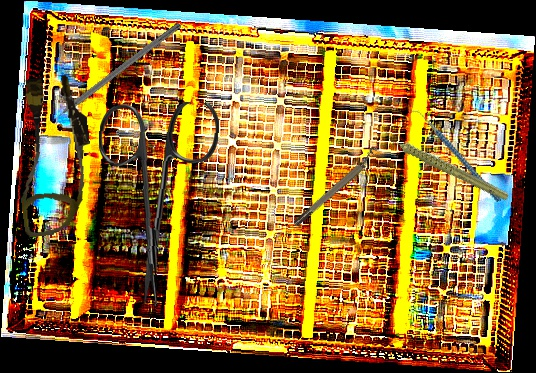Cannula: (6, 73, 101, 238)
Chopper: (407, 90, 502, 221)
Fixation Ring: (288, 144, 385, 229)
Handpiece: (381, 106, 512, 224)
Hook Surgical: (37, 20, 183, 133)
Iris Scissors: (93, 98, 220, 309)
